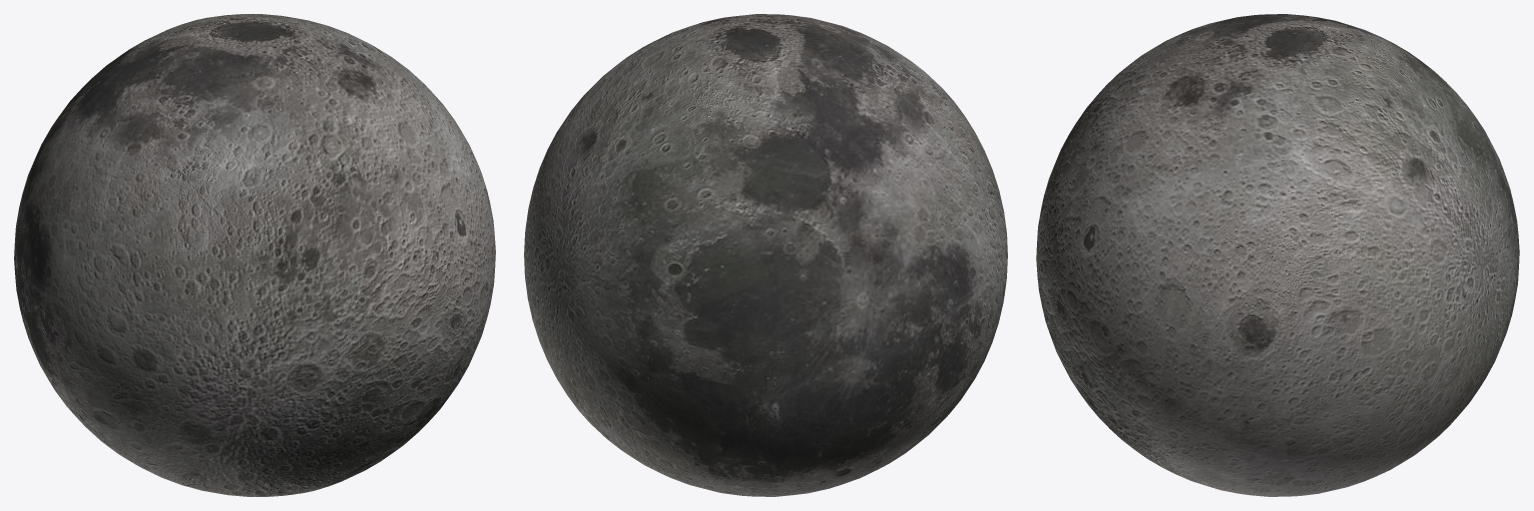
File: moon.gltf
The picture shows the model from 3 angles, left to right: view 1: azimuth 30°, elevation 25°; view 2: azimuth 150°, elevation 25°; view 3: azimuth 270°, elevation 25°; orthographic projection.
Parts seen in each view (by area): view 1: Moon; view 2: Moon; view 3: Moon.
Boxes of the visible parts, x1,y1,x2,y2 form: Moon: (14,14,495,496); Moon: (524,14,1007,496); Moon: (1036,14,1519,496).
Size of the model in its own units: 18.67 by 18.67 by 18.68.
1 material, 1 textured.
